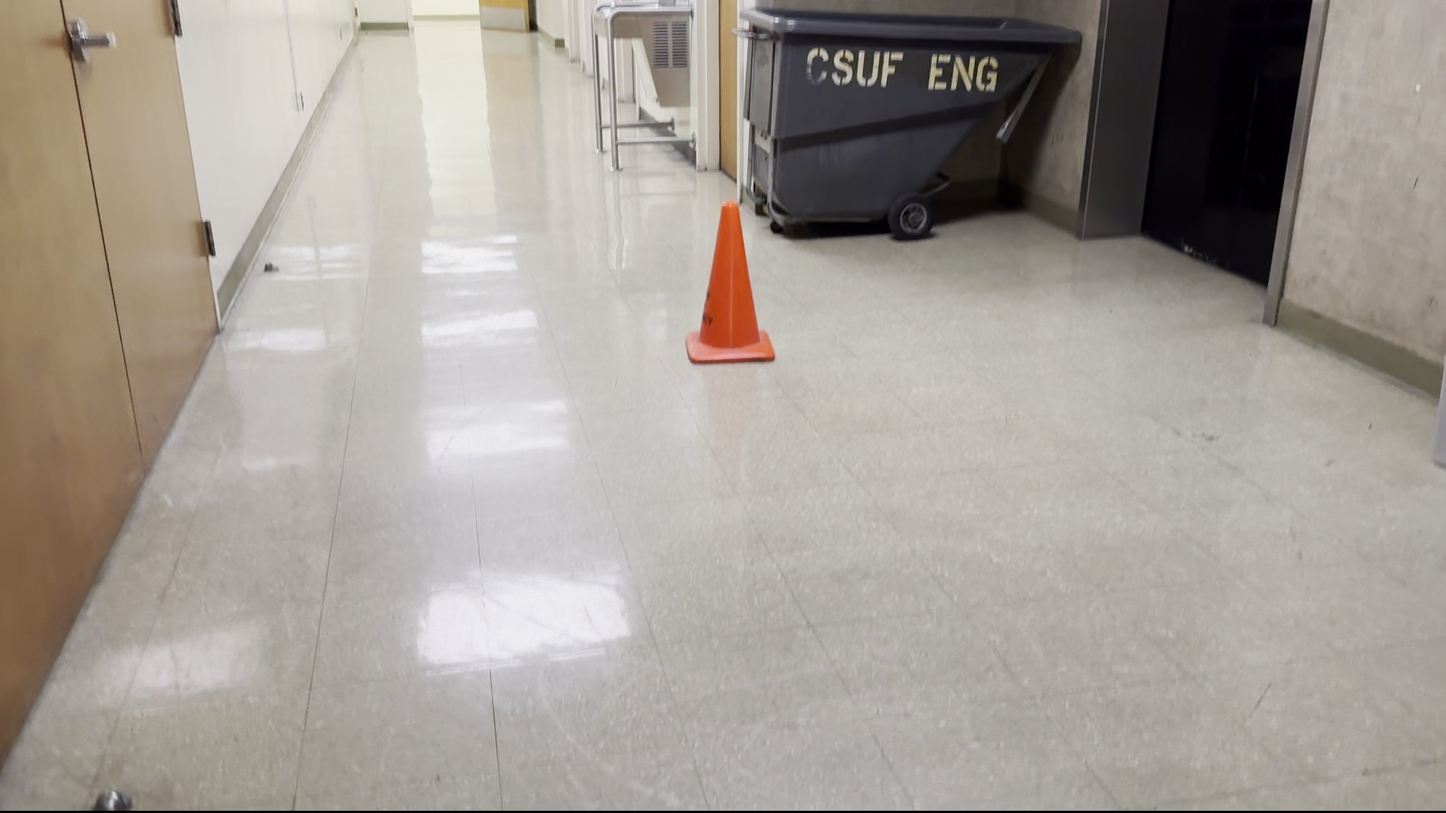traffic_cone: (684, 201, 776, 364)
